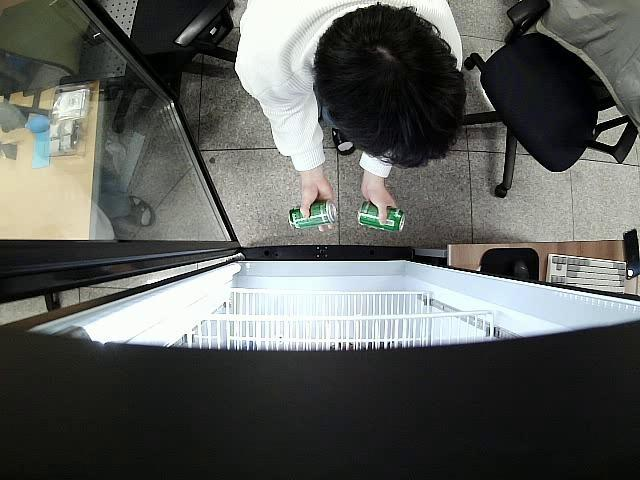12_chilsungCider: (357, 202, 406, 234), (288, 201, 338, 230)
